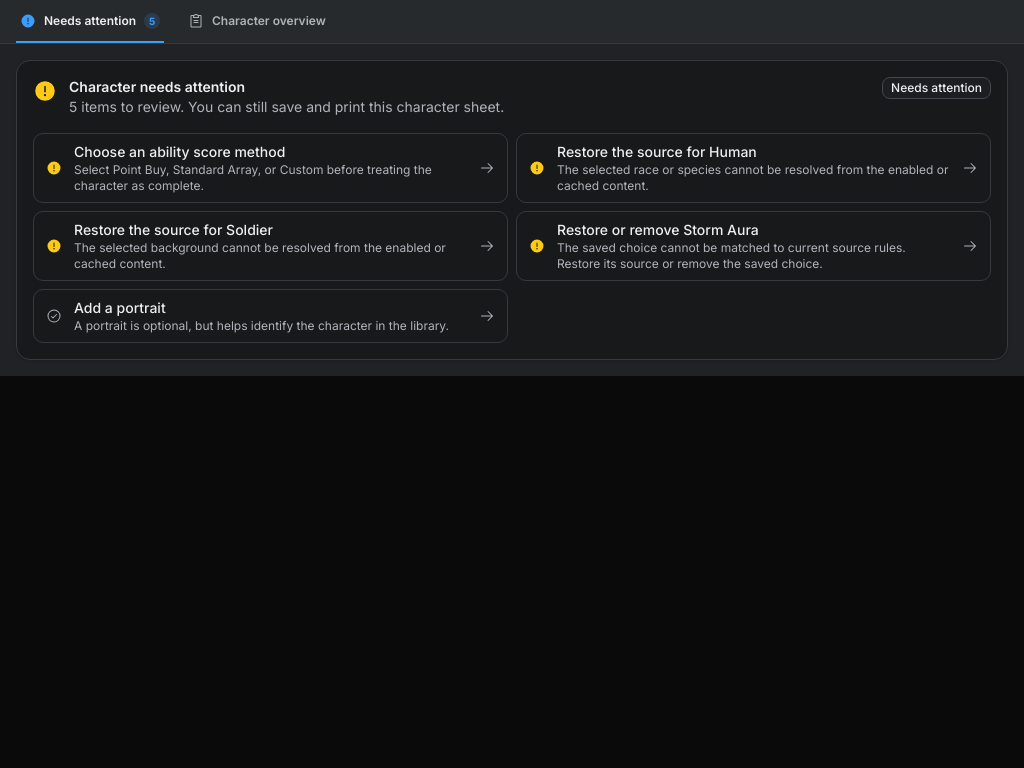
Scenario: fully pruned source uses shared saved recovery and restores without changing intent
Click the button "Restore or remove Storm Aura": click(754, 246) [516, 211, 991, 281]
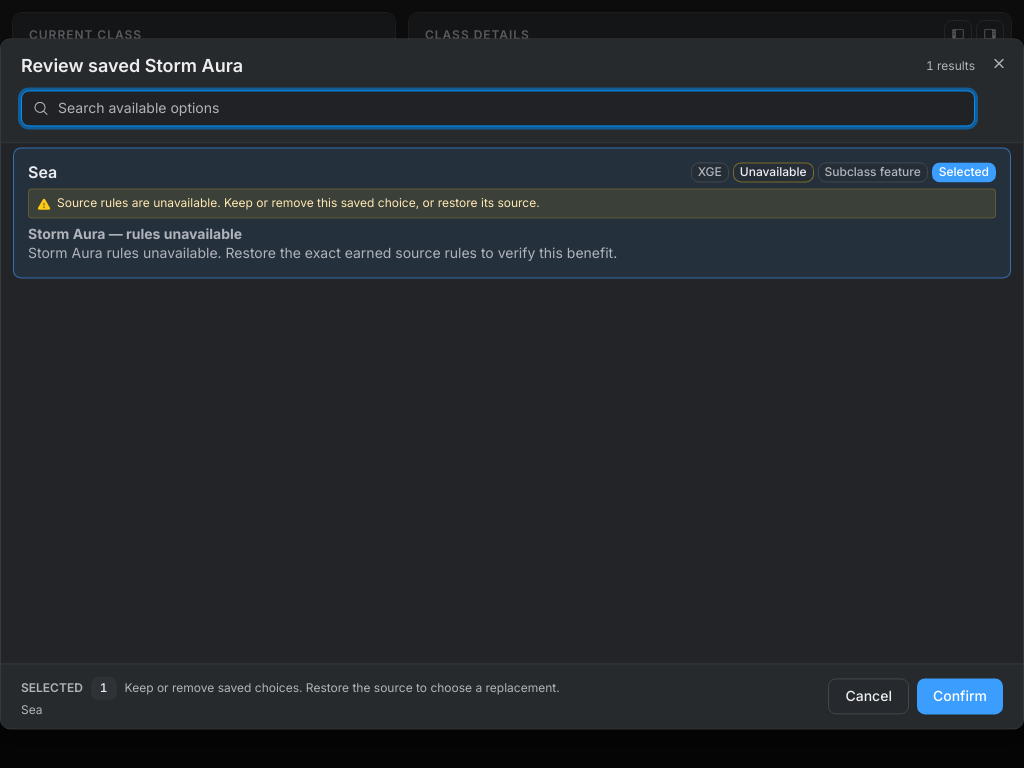
Now the dialog is shown
Now the heading "Review saved Storm Aura" is shown, box [21, 55, 243, 78]
Click the button "Confirm": click(960, 697) [917, 679, 1003, 715]
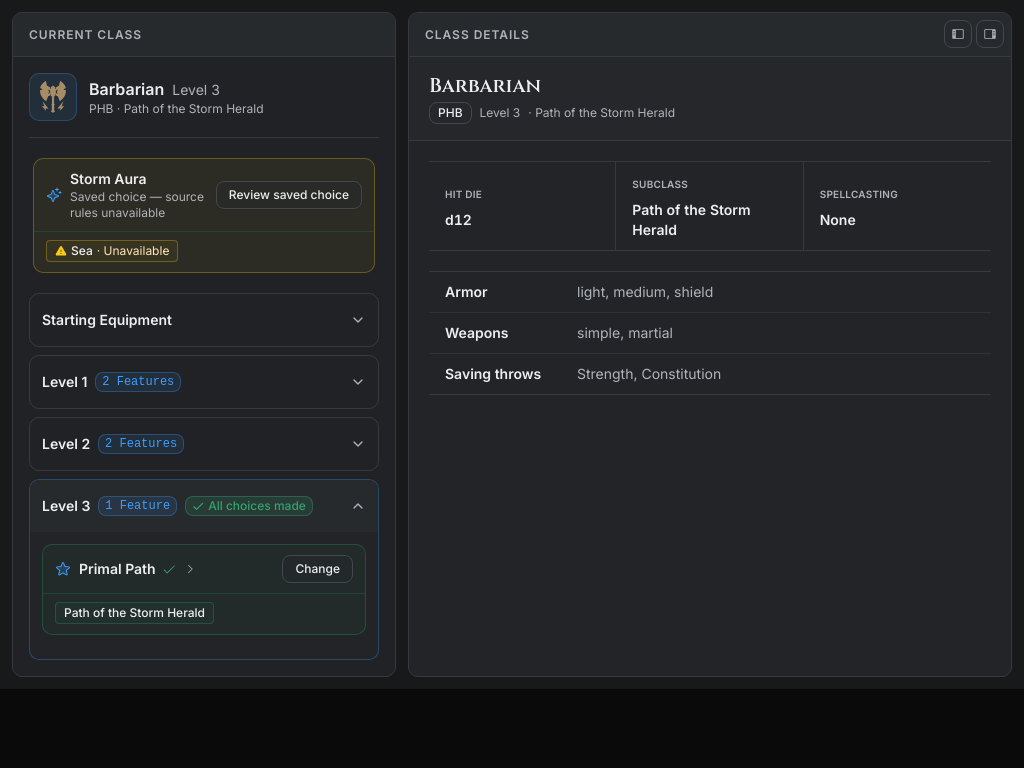
Now the dialog is gone
